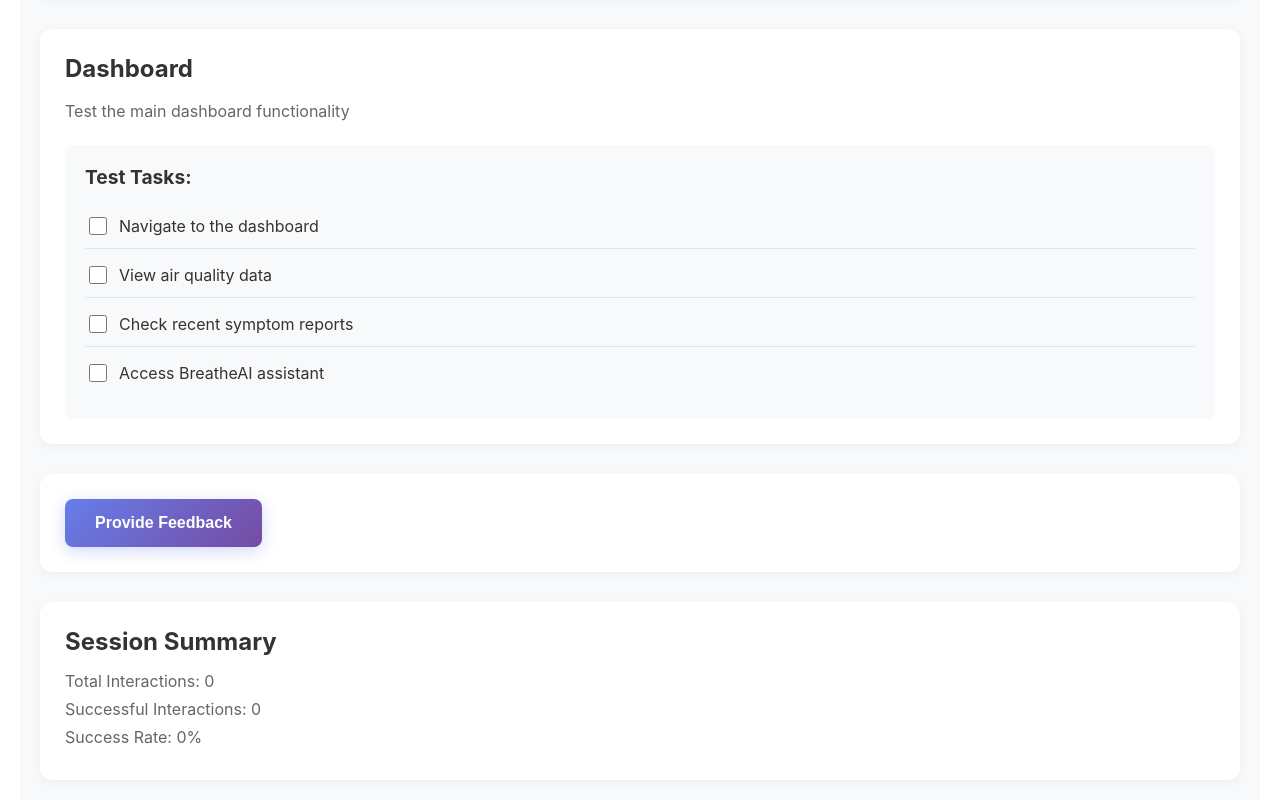
Scenario: UserTesting Component › opens feedback form when feedback button is clicked
(page scrolled)
Click the button "Provide Feedback" at (164, 523), box 65,499 -> 262,547
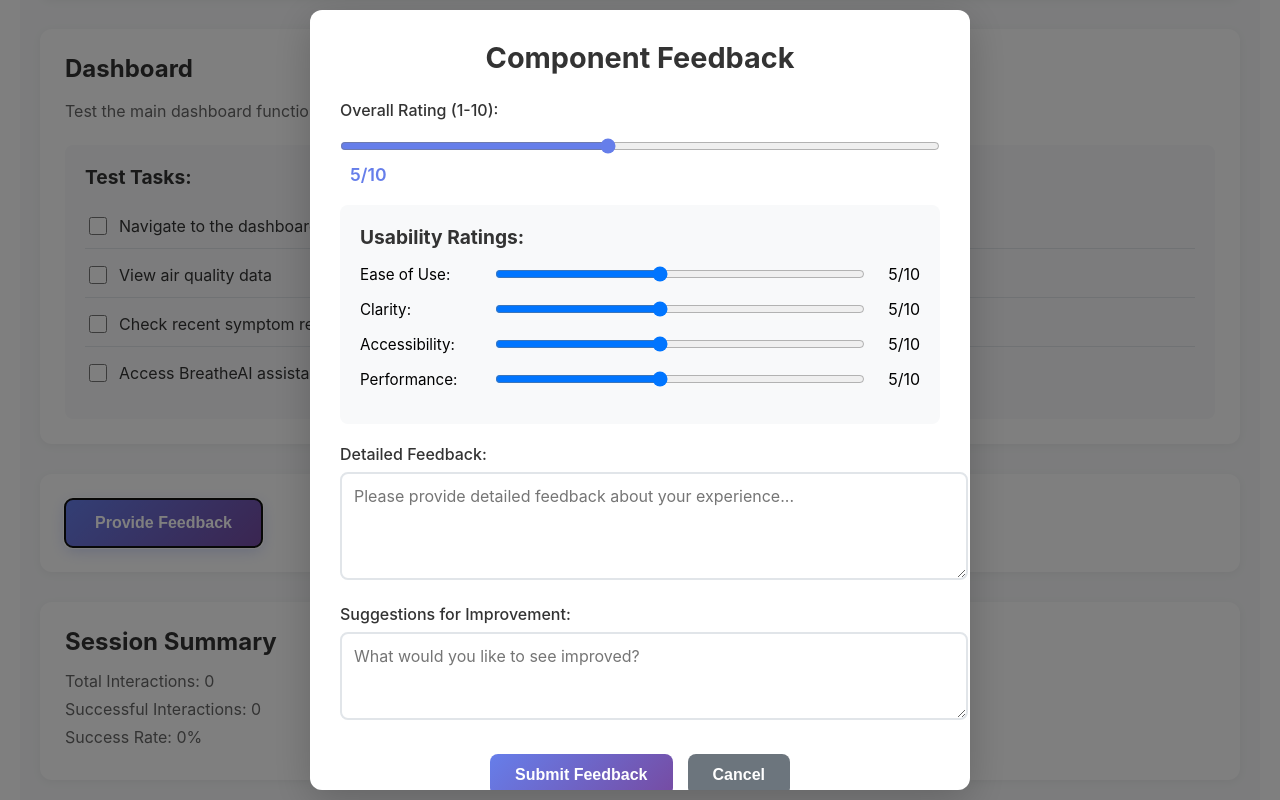
Expected: the heading "Component Feedback" is shown, 486,40 -> 794,75
Expected: the text "Overall Rating (1-10):" is shown, 340,100 -> 498,120
Expected: the heading "Usability Ratings:" is shown, 360,225 -> 524,249
